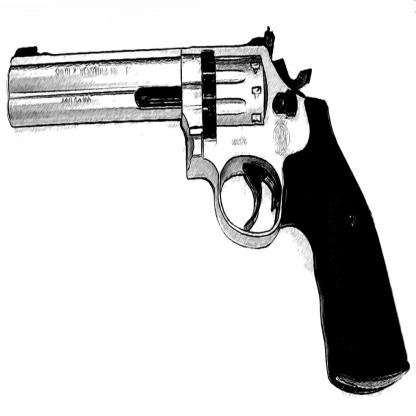Handgun: (6, 25, 410, 394)
